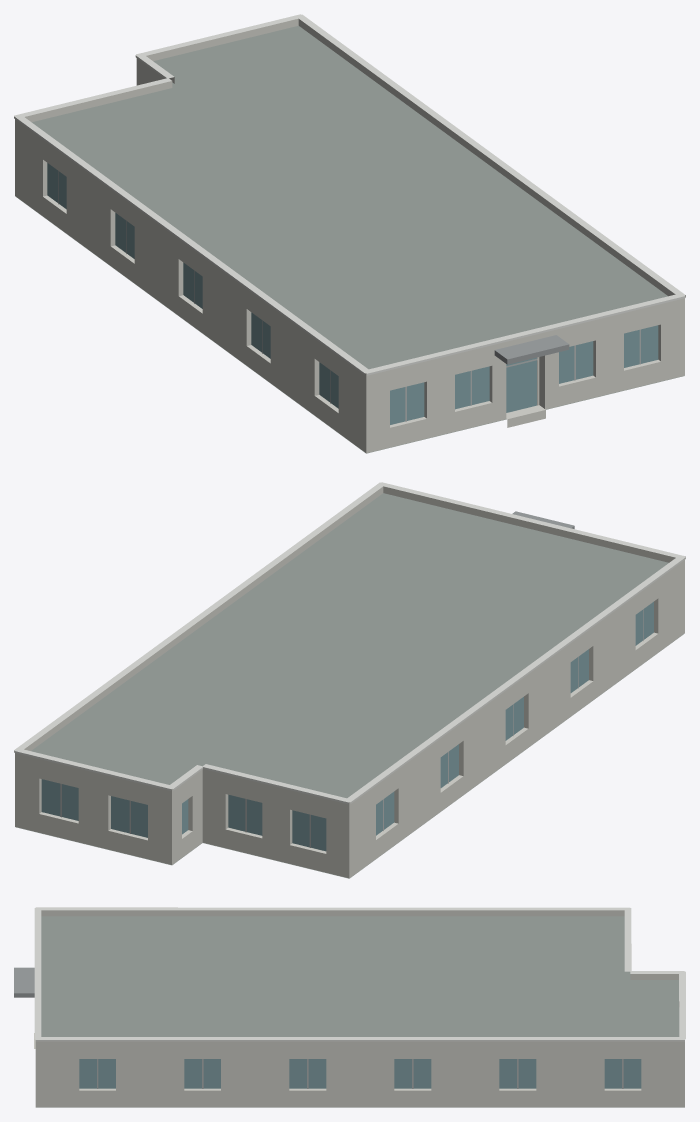
3 renders of one model, top to bottom at view 1: azimuth 30°, elevation 25°; view 2: azimuth 150°, elevation 25°; view 3: azimuth 270°, elevation 25°, orthographic. The views are drawn at different scales.
Parts seen in each view (by area): view 1: osm761589267__roof, osm761589267__wall, osm761589267__trim, osm761589267__glass, osm761589267__parapet, osm761589267__canopy; view 2: osm761589267__roof, osm761589267__wall, osm761589267__trim, osm761589267__glass, osm761589267__parapet; view 3: osm761589267__roof, osm761589267__wall, osm761589267__trim, osm761589267__parapet, osm761589267__glass, osm761589267__canopy, osm761589267__frame.
Part boxes in pixels (x1,y1,x2,y2): osm761589267__roof: (15,25,684,453); osm761589267__wall: (15,62,684,453); osm761589267__trim: (14,14,685,375); osm761589267__glass: (47,163,658,424); osm761589267__parapet: (15,18,684,380); osm761589267__canopy: (494,335,569,364); osm761589267__roof: (15,493,684,878); osm761589267__wall: (15,564,684,878); osm761589267__trim: (14,482,685,804); osm761589267__glass: (41,601,653,851); osm761589267__parapet: (15,486,684,808); osm761589267__roof: (36,916,684,1107); osm761589267__wall: (35,1045,684,1107); osm761589267__trim: (34,907,685,1041); osm761589267__parapet: (35,910,684,1045); osm761589267__glass: (79,1059,641,1088); osm761589267__canopy: (14,967,34,997); osm761589267__frame: (97,1059,623,1088).
Size of the model in its own units: 16.57 by 4.35 by 35.52.
